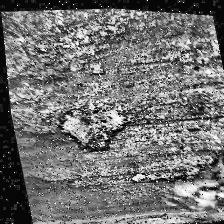pothole: (53, 100, 131, 156), (127, 164, 185, 188)
